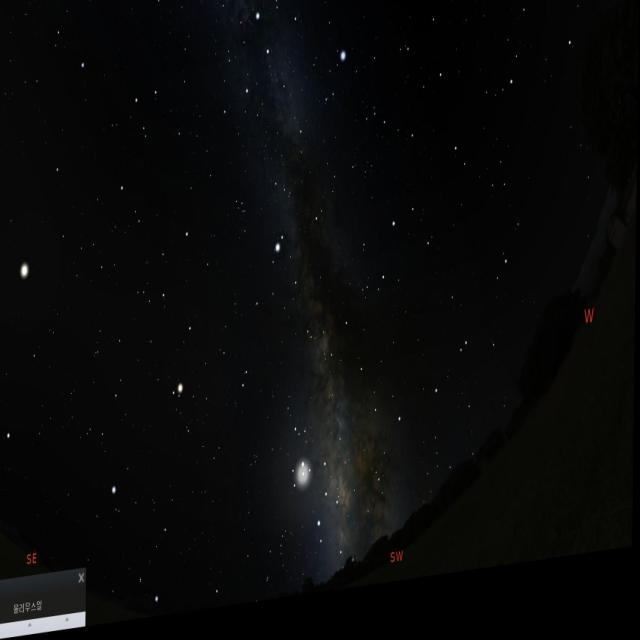aquila: (250, 234, 332, 368)
cygnus: (237, 2, 308, 176)
lyra: (311, 52, 354, 135)
moon: (283, 444, 323, 508)
sagittarius: (282, 429, 344, 565)
